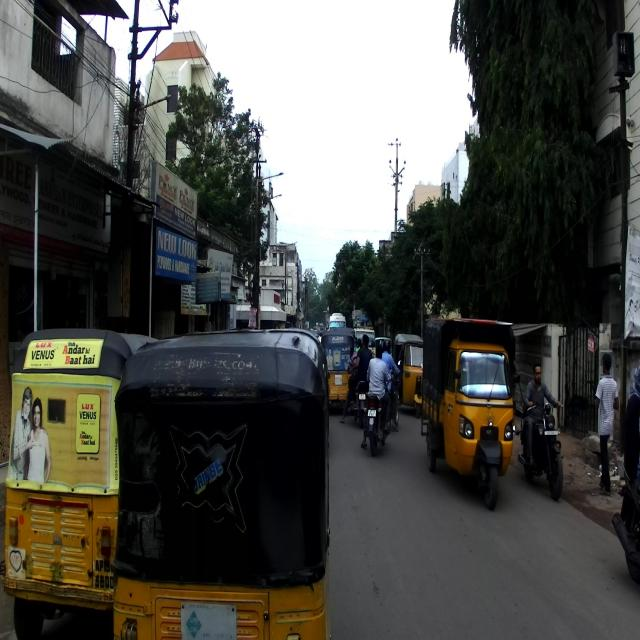autorickshaw: (110, 329, 330, 636), (0, 330, 160, 640), (420, 314, 516, 510)
motorcycle: (516, 386, 565, 502), (362, 371, 393, 457)
